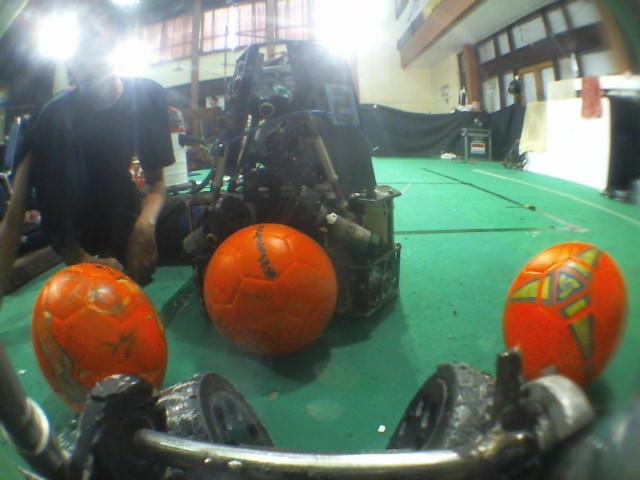ball: (495, 233, 633, 393), (25, 256, 173, 402), (200, 217, 342, 360)
